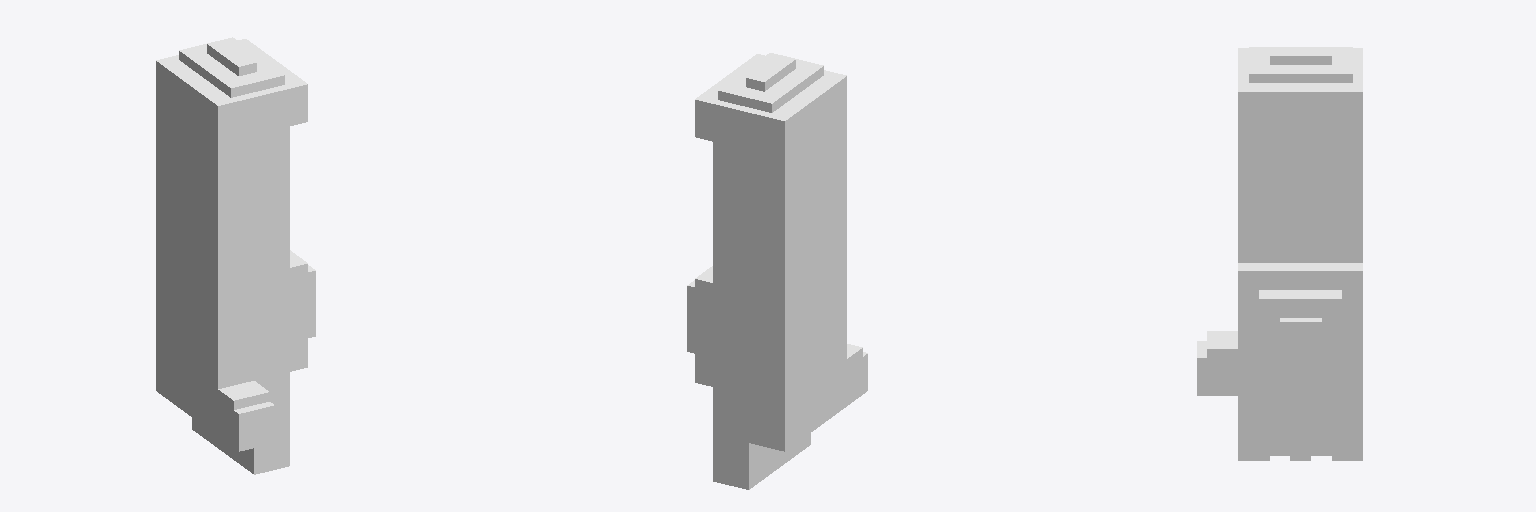
Rendered from handgoblin.obj.
The picture shows the model from 3 angles: view 1: azimuth 30°, elevation 25°; view 2: azimuth 150°, elevation 25°; view 3: azimuth 270°, elevation 25°; orthographic projection.
Bounding box in the file's own units: 13 × 42 × 16.